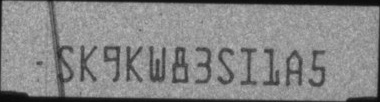1: (263, 47, 281, 86)
3: (194, 46, 212, 84)
5: (308, 49, 327, 87)
8: (171, 47, 189, 83)
9: (103, 45, 120, 82)
A: (286, 49, 303, 86)
I: (240, 47, 257, 85)
K: (125, 45, 144, 83), (80, 44, 98, 83)
S: (55, 45, 76, 83), (217, 47, 235, 85)
W: (147, 45, 165, 82)
